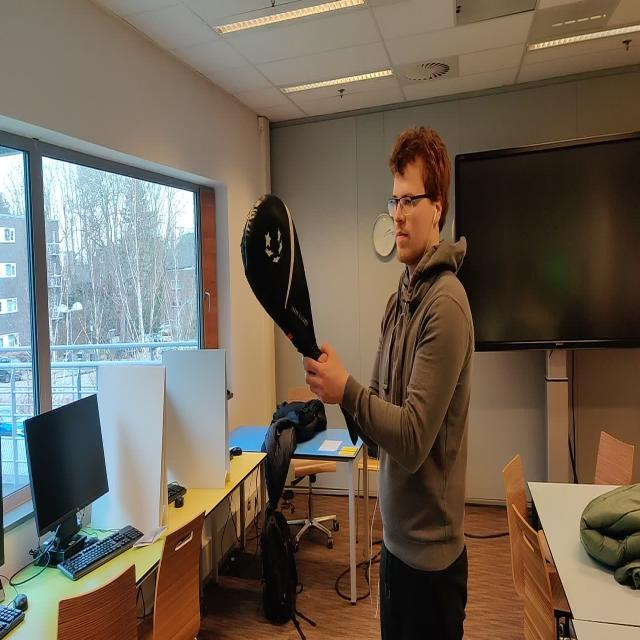paddle: (240, 192, 321, 361)
